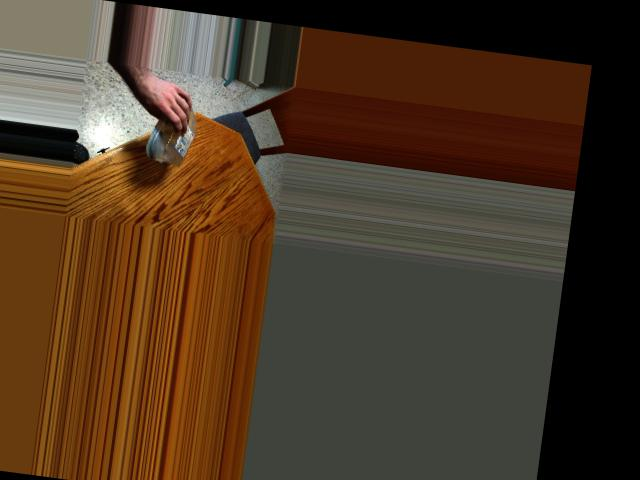cheese: (145, 89, 199, 148)
